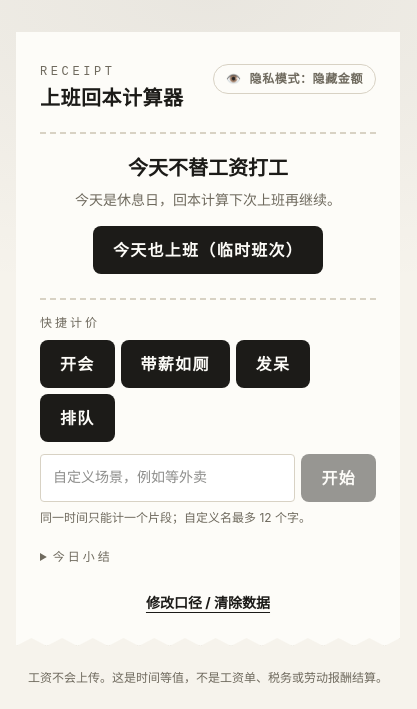
Test: App › 非工作日默认不累计，可开启一次性临时班次
This screenshot has width=417, height=709.
Check: the heading "今天不替工资打工" is shown, box [128,156,288,180]
Click the button "今天也上班（临时班次）" at coordinates (208, 250), box [93,226,323,274]
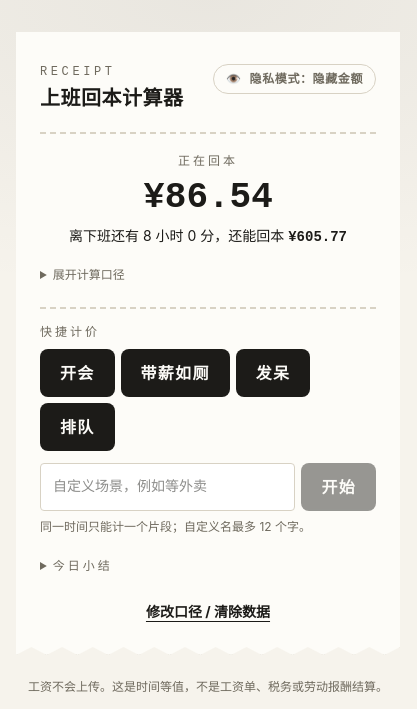
Check: the text "正在回本" is shown, box [178,155,238,169]
